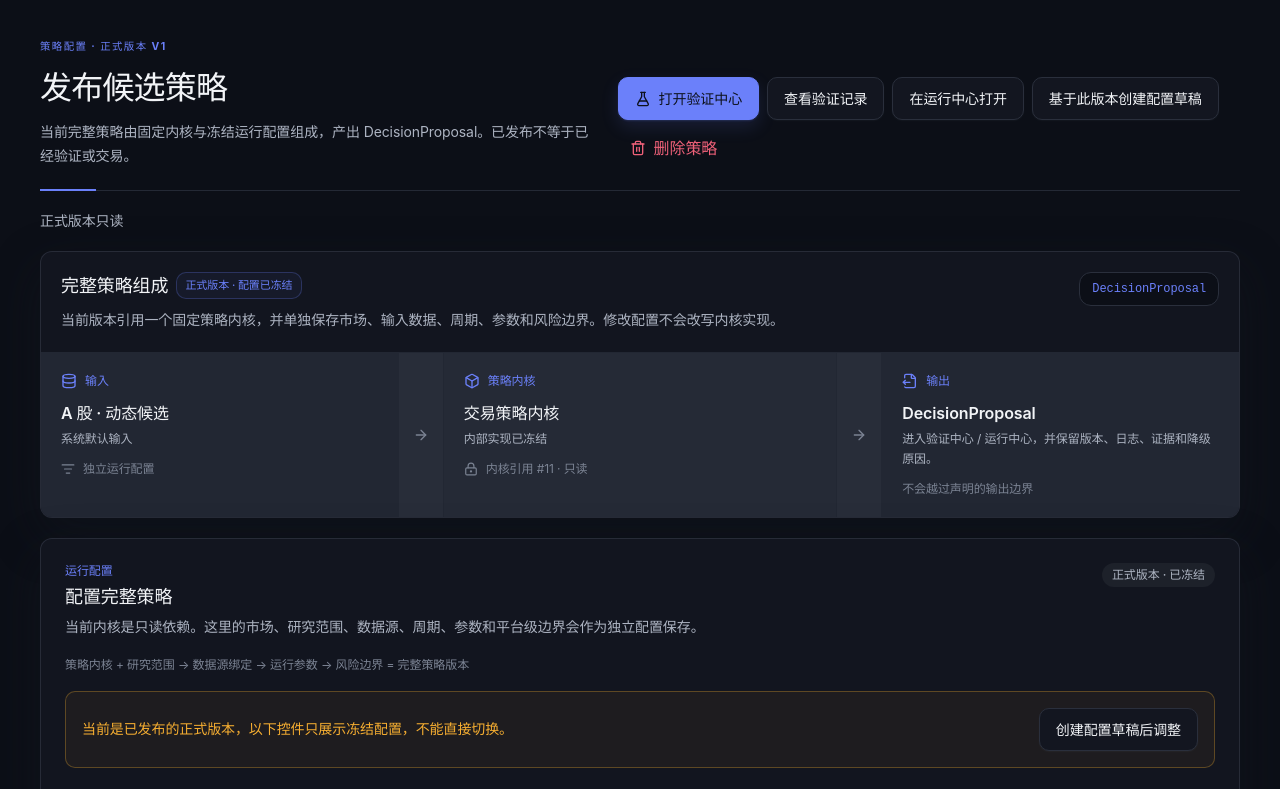
StrategyEditorPage strategy deletion › warns that deleting the opened running strategy will terminate research
The width and height of the screenshot is (1280, 789).
Click the button with aria-label "删除策略 发布候选策略" at (673, 148), box x1=618 y1=128 x2=729 y2=168
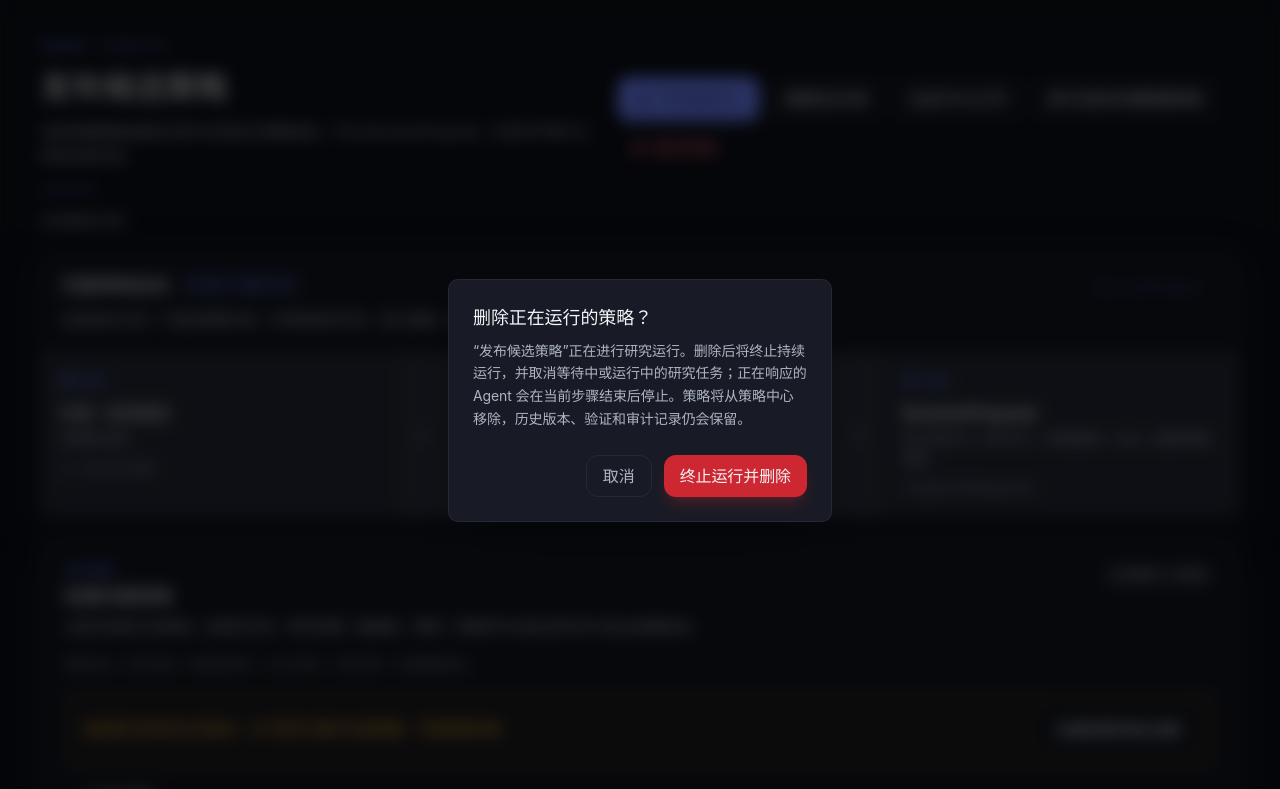
Expected: the heading "删除正在运行的策略？" is shown, x1=473 y1=306 x2=652 y2=328
Expected: the text "删除后将终止持续运行" is shown, x1=473 y1=342 x2=807 y2=427
Expected: the button "终止运行并删除" is shown, x1=664 y1=454 x2=807 y2=496
